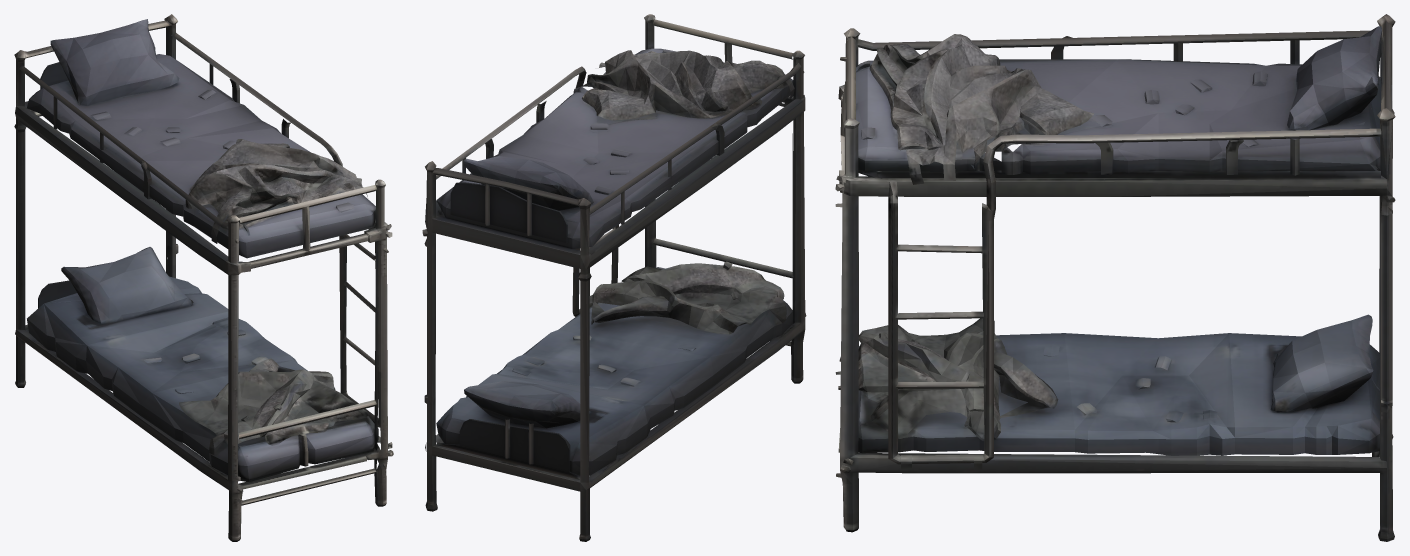
File: Bunk_Bed_1.glb
The picture shows the model from 3 angles, left to right: view 1: azimuth 30°, elevation 25°; view 2: azimuth 150°, elevation 25°; view 3: azimuth 270°, elevation 25°; orthographic projection. The views are drawn at different scales.
Parts seen in each view (by area): view 1: Bunk_Bed_1; view 2: Bunk_Bed_1; view 3: Bunk_Bed_1.
Part boxes in pixels (box(x1,y1,x2,y2)): Bunk_Bed_1: box(14, 14, 393, 541); Bunk_Bed_1: box(422, 14, 806, 541); Bunk_Bed_1: box(835, 14, 1395, 541).
Size of the model in its own units: 0.4048 by 0.7681 by 0.8862.
Materials: 1 (1 with a texture image).
